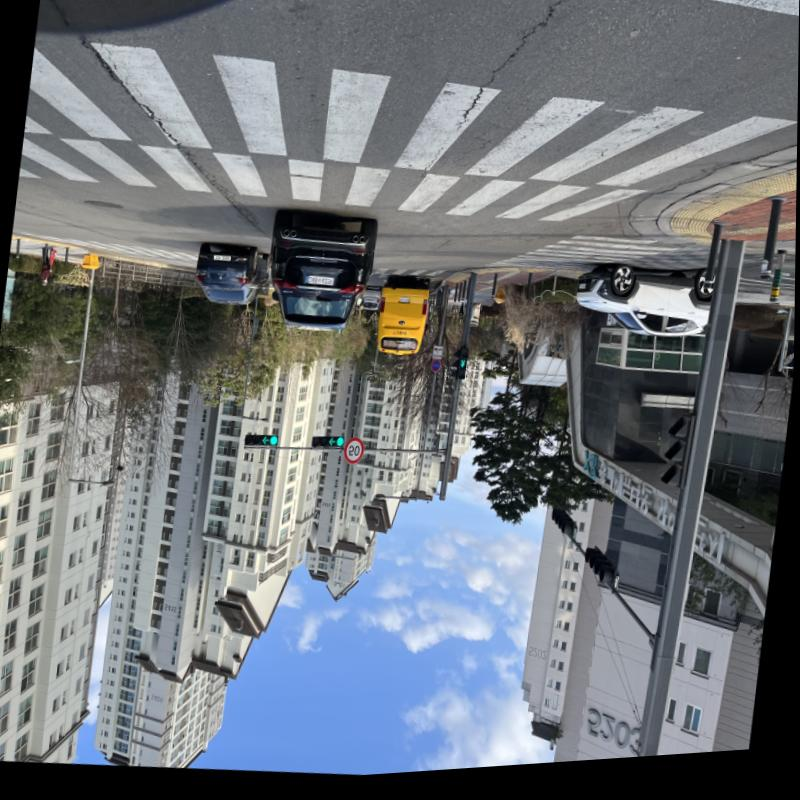green: (270, 439, 279, 449)
left: (261, 439, 271, 450)
